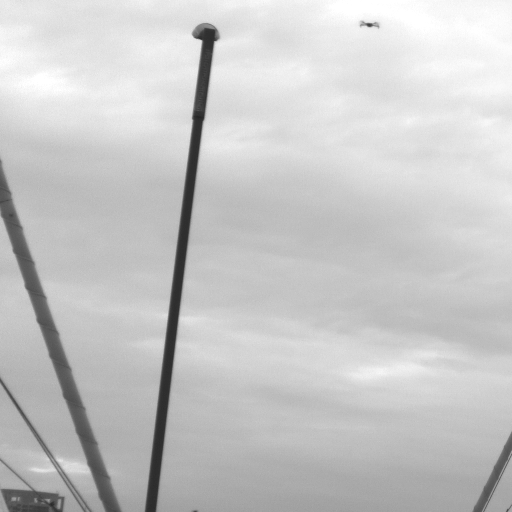uav: (357, 19, 380, 27)
